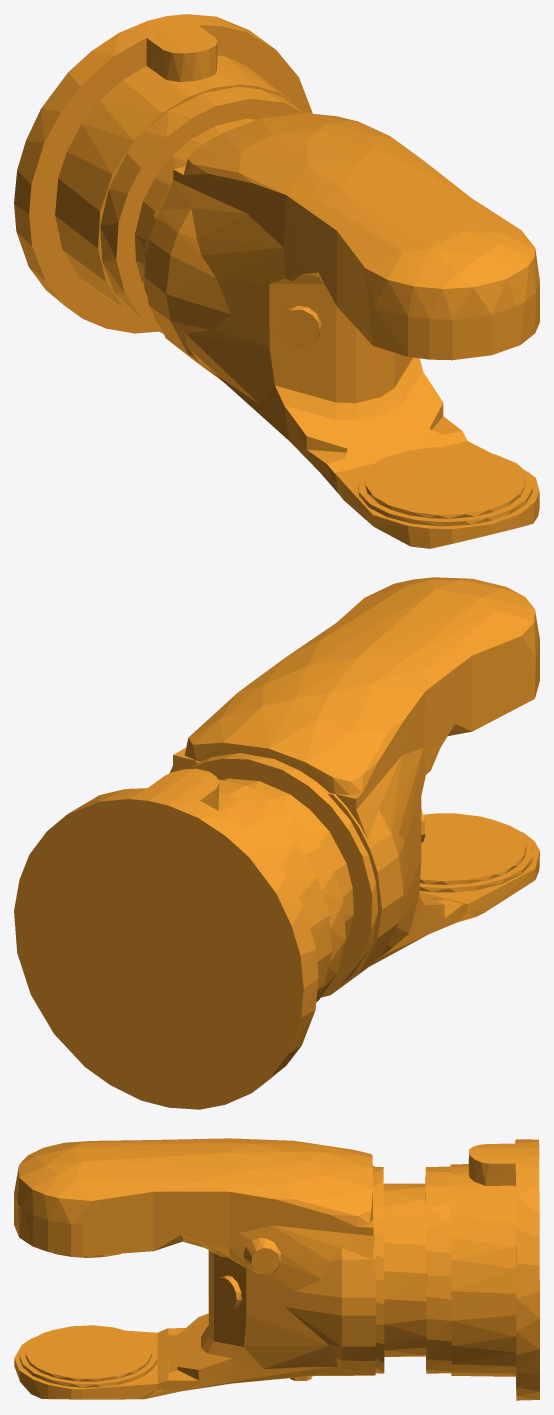
File: KukaK6R900Link4.dae
The picture shows the model from 3 angles, top to bottom: view 1: azimuth 30°, elevation 25°; view 2: azimuth 150°, elevation 25°; view 3: azimuth 270°, elevation 25°; orthographic projection. The views are drawn at different scales.
Visible parts, largest first — view 1: KUKA_K6Link4; view 2: KUKA_K6Link4; view 3: KUKA_K6Link4.
Boxes of the visible parts, left/top/right/bottom form: KUKA_K6Link4: left=14, top=14, right=539, bottom=548; KUKA_K6Link4: left=14, top=577, right=539, bottom=1109; KUKA_K6Link4: left=14, top=1138, right=539, bottom=1400.
Bounding box in the file's own units: 0.0775 × 0.1563 × 0.0774.
